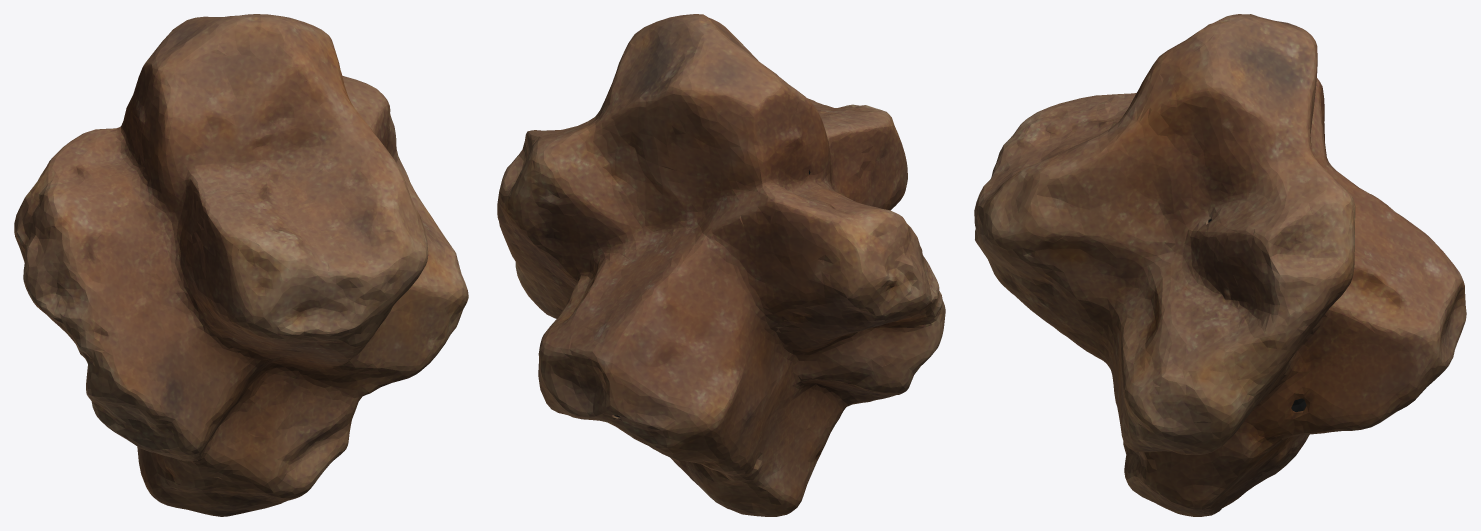
3 renders of one model, left to right at view 1: azimuth 30°, elevation 25°; view 2: azimuth 150°, elevation 25°; view 3: azimuth 270°, elevation 25°, orthographic. The views are drawn at different scales.
Visible parts, largest first — view 1: world; view 2: world; view 3: world.
Part boxes in pixels (x1=…): world: x1=14, y1=14, x2=468, y2=516; world: x1=497, y1=14, x2=945, y2=516; world: x1=974, y1=14, x2=1466, y2=516.
Size of the model in its own units: 0.8298 by 0.9326 by 0.8203.
Materials: 1 (1 with a texture image).
